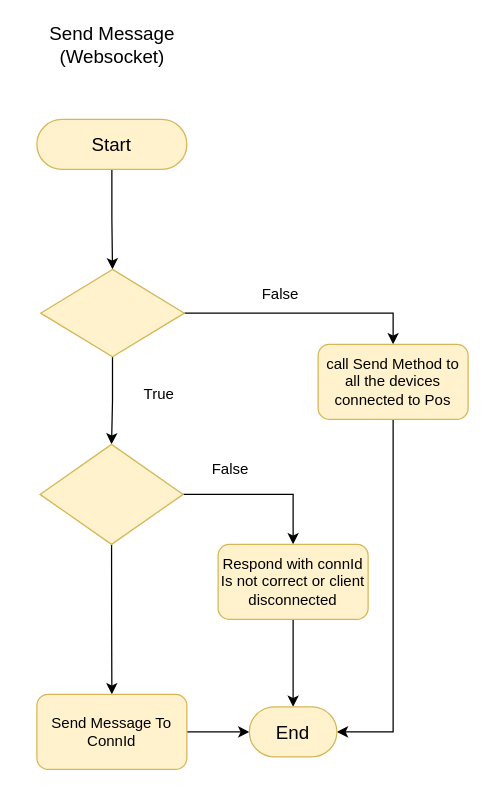
This 490x791 diagram has some shape labels left out. Each missing label, with the box of its shape:
"To" ConnId Present?: (39, 268, 184, 357)
ConnId is in database?: (39, 443, 183, 544)
